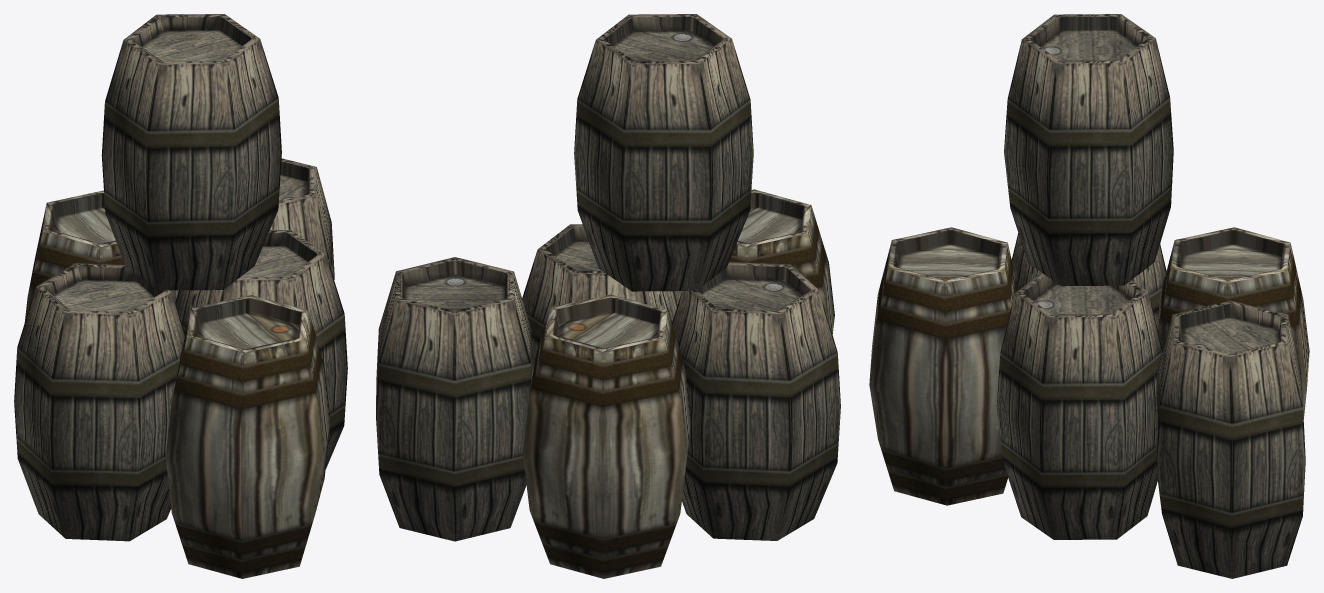
Rendered from barrel_group_2.fbx.
3 views of the same model, side by side, from view 1: azimuth 30°, elevation 25°; view 2: azimuth 150°, elevation 25°; view 3: azimuth 270°, elevation 25° (orthographic).
Visible parts, largest first — view 1: barrel_high5, barrel_high1, barrel_high, barrel_high4, barrel_high3, barrel_high2; view 2: barrel_high5, barrel_high3, barrel_high1, barrel_high2, barrel_high4, barrel_high; view 3: barrel_high5, barrel_high4, barrel_high2, barrel_high, barrel_high3, barrel_high1.
Part boxes in pixels (x1,y1,x2,y2): barrel_high5: [101, 14, 281, 290]; barrel_high1: [14, 263, 185, 541]; barrel_high: [165, 295, 330, 578]; barrel_high4: [175, 230, 347, 469]; barrel_high3: [24, 190, 178, 322]; barrel_high2: [270, 158, 334, 279]; barrel_high5: [574, 14, 753, 291]; barrel_high3: [523, 294, 690, 578]; barrel_high1: [672, 262, 840, 540]; barrel_high2: [376, 257, 532, 541]; barrel_high4: [522, 224, 681, 364]; barrel_high: [729, 189, 834, 334]; barrel_high5: [1004, 14, 1173, 286]; barrel_high4: [996, 272, 1162, 539]; barrel_high2: [1155, 300, 1305, 578]; barrel_high: [869, 227, 1018, 505]; barrel_high3: [1157, 227, 1309, 419]; barrel_high1: [1011, 233, 1166, 325].
Size of the model in its own units: 1109 by 1290 by 1149.
1 material, 1 textured.
